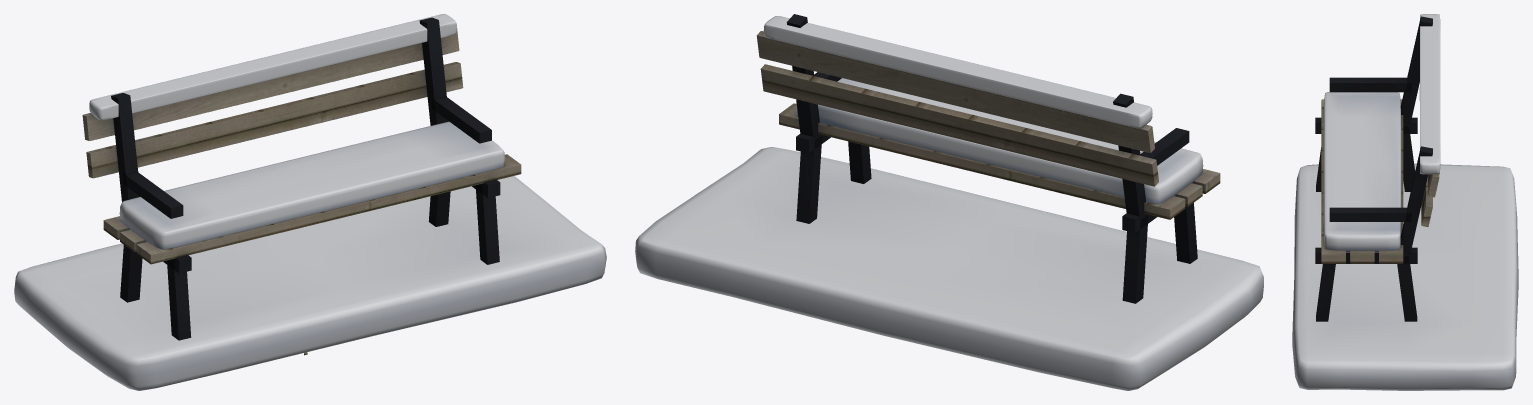
Rendered from bench.glb.
The picture shows the model from 3 angles, left to right: view 1: azimuth 30°, elevation 25°; view 2: azimuth 150°, elevation 25°; view 3: azimuth 270°, elevation 25°; orthographic projection. The views are drawn at different scales.
Visible parts, largest first — view 1: bench_snow, bench; view 2: bench_snow, bench; view 3: bench_snow, bench.
Boxes of the visible parts, box(x1,y1,x2,y2) form: bench_snow: box(14, 14, 606, 390); bench: box(82, 17, 521, 355); bench_snow: box(635, 16, 1263, 390); bench: box(756, 14, 1220, 303); bench_snow: box(1292, 14, 1518, 390); bench: box(1315, 16, 1439, 321).
Bounding box in the file's own units: 2.38 × 1.28 × 1.11.
2 materials, 1 textured.
